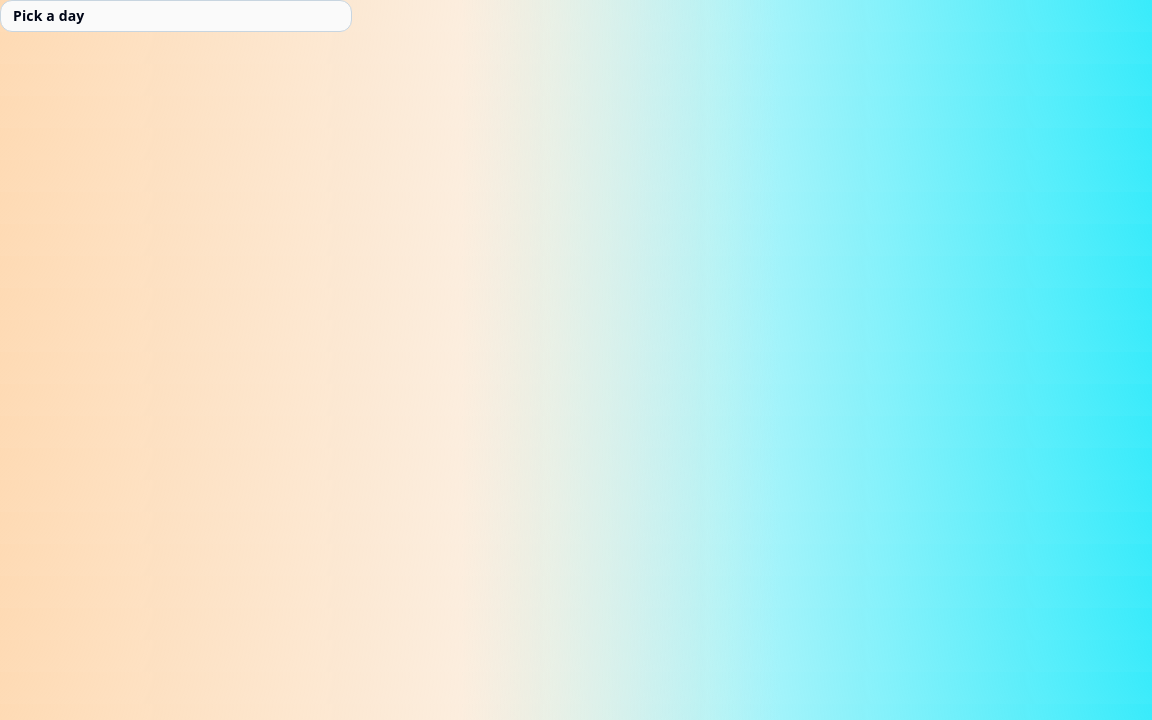
DatePicker › opens calendar popover from trigger
The image size is (1152, 720).
Click the button "Pick a day": [49, 15] box [0,0,352,32]
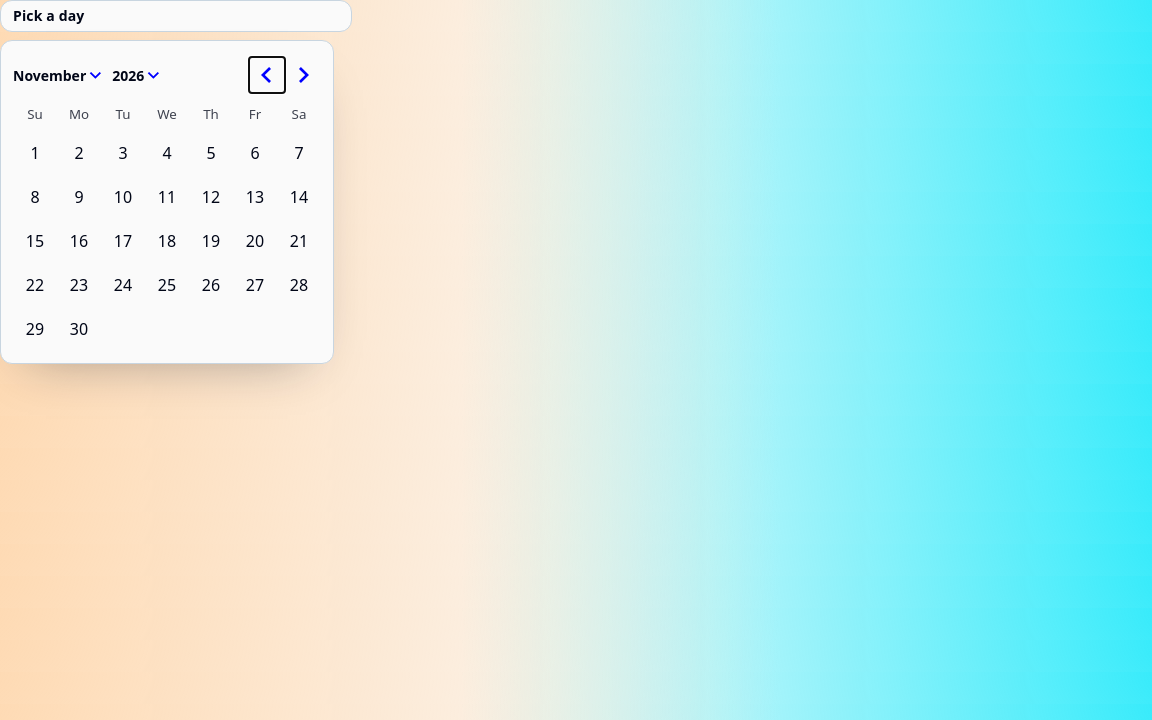
Check: the table is shown, box [13,97,321,351]
